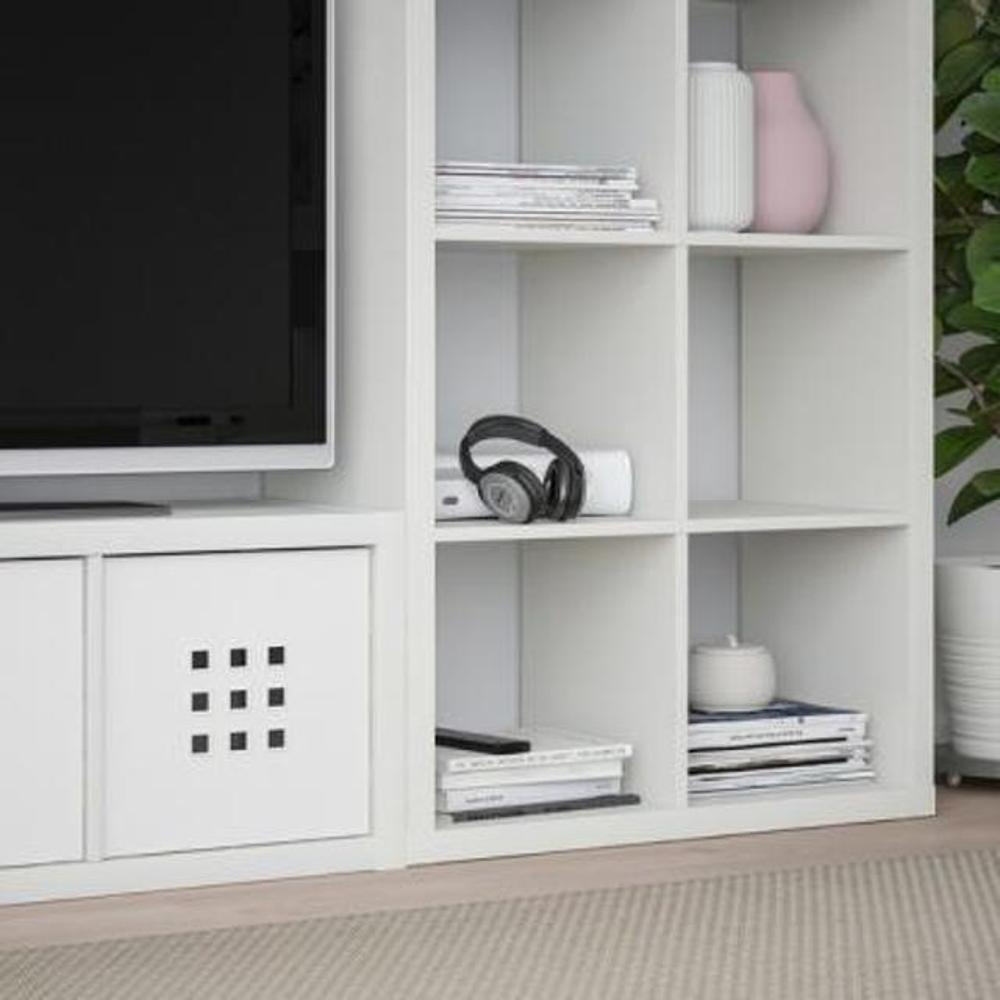lamp: (262, 1, 942, 877), (0, 495, 404, 918)
